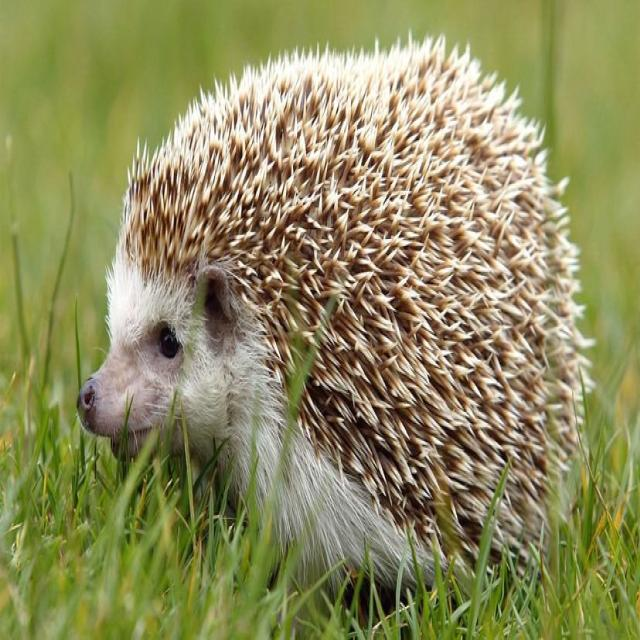Hedgehog: (74, 30, 595, 617)
